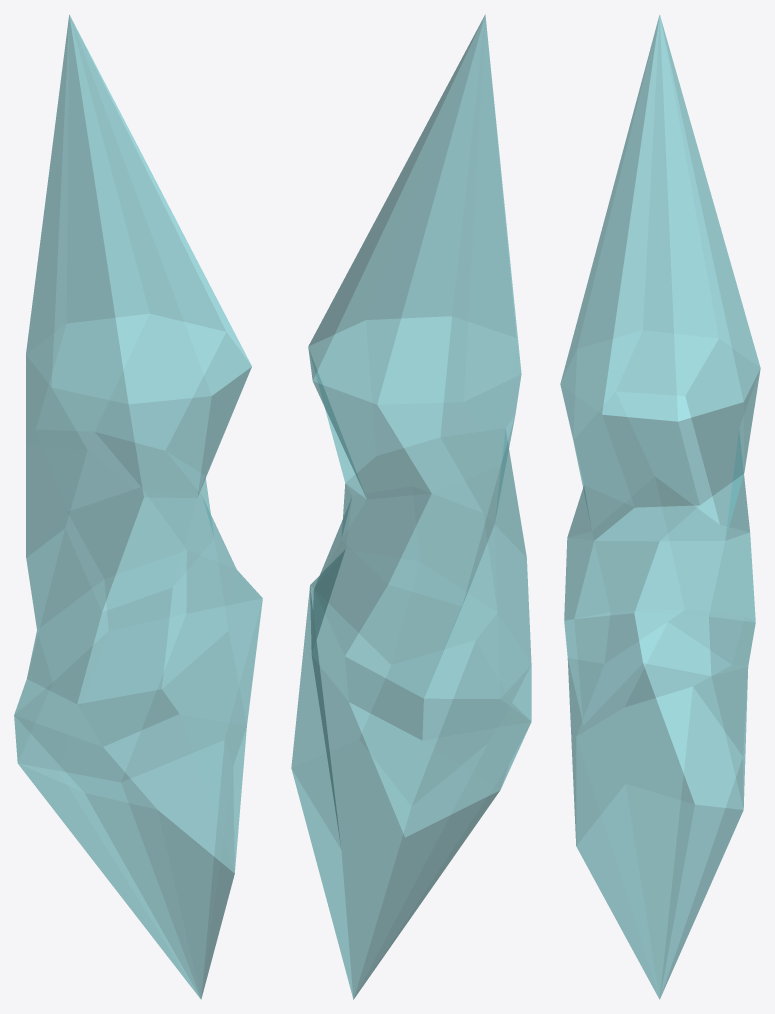
The model's file is ice_spike.fbx.
3 renders of one model, left to right at view 1: azimuth 30°, elevation 25°; view 2: azimuth 150°, elevation 25°; view 3: azimuth 270°, elevation 25°, orthographic. The views are drawn at different scales.
Visible parts, largest first — view 1: Cone; view 2: Cone; view 3: Cone.
Part boxes in pixels (<box>): Cone: <box>14,14,262,999</box>; Cone: <box>291,14,531,999</box>; Cone: <box>560,14,760,999</box>.
Bounding box in the file's own units: 170 × 704 × 138.
